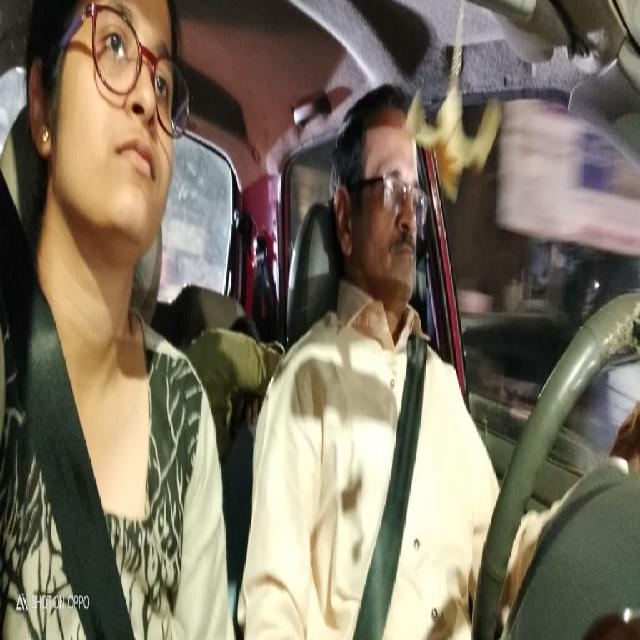person: (22, 0, 202, 326), (329, 64, 446, 326)
